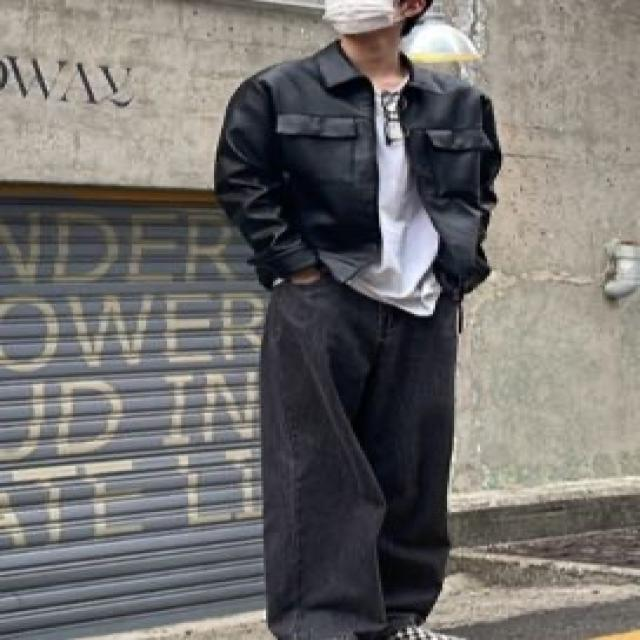denimpants: (260, 265, 464, 640)
jacket: (210, 38, 502, 301)
